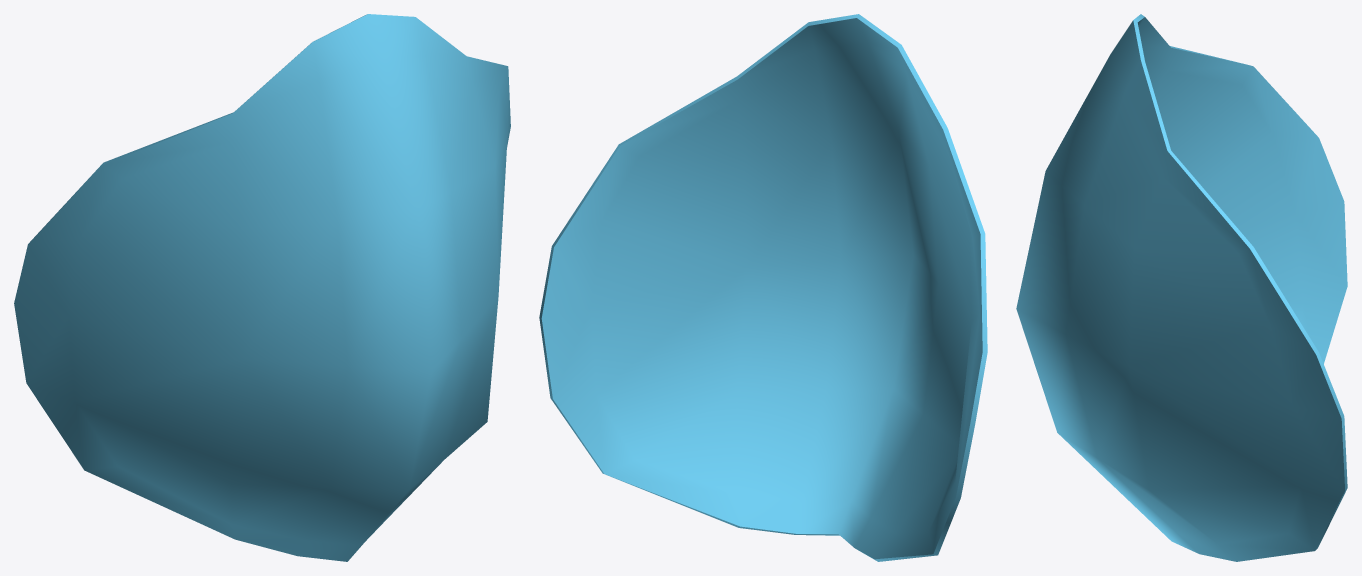
Rendered from maskN95_onhead.FBX.
3 renders of one model, left to right at view 1: azimuth 30°, elevation 25°; view 2: azimuth 150°, elevation 25°; view 3: azimuth 270°, elevation 25°, orthographic. The views are drawn at different scales.
Parts seen in each view (by area): view 1: maskN95_onHead; view 2: maskN95_onHead; view 3: maskN95_onHead.
Boxes of the visible parts, x1,y1,x2,y2 form: maskN95_onHead: (14,14,510,561); maskN95_onHead: (539,14,987,561); maskN95_onHead: (1016,14,1347,561).
Size of the model in its own units: 10.02 by 11.16 by 6.43.
